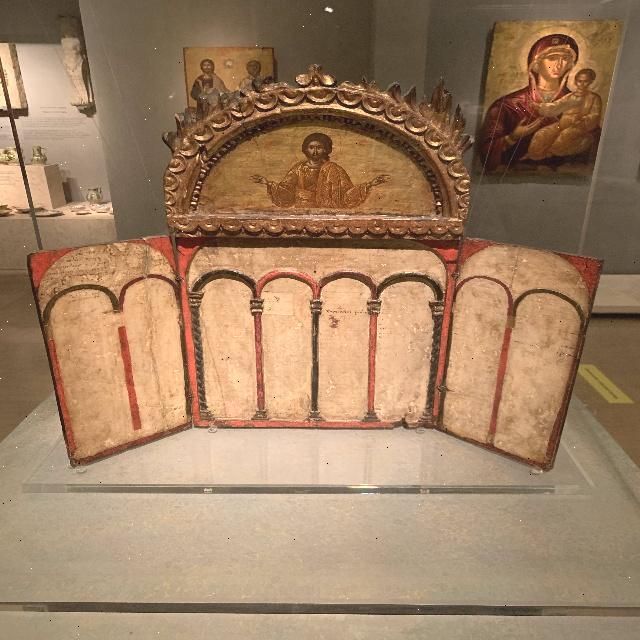christ_pantocrator: (255, 131, 394, 210)
